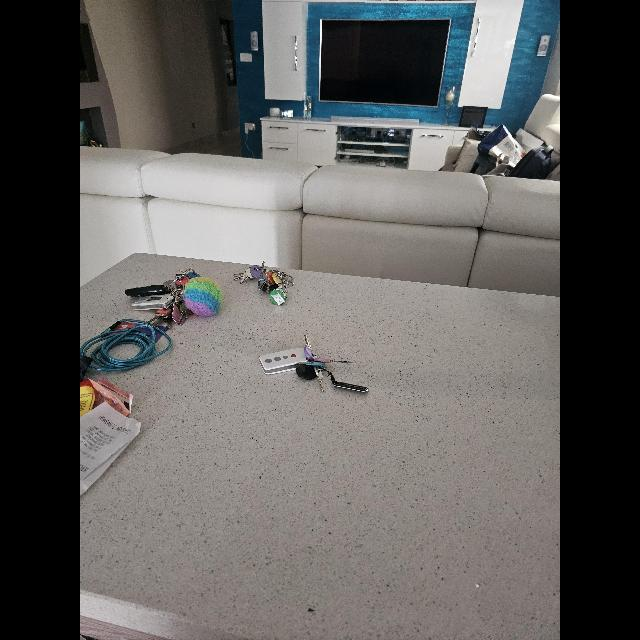Keys: (257, 335, 367, 393), (126, 270, 220, 326), (234, 262, 292, 304)
